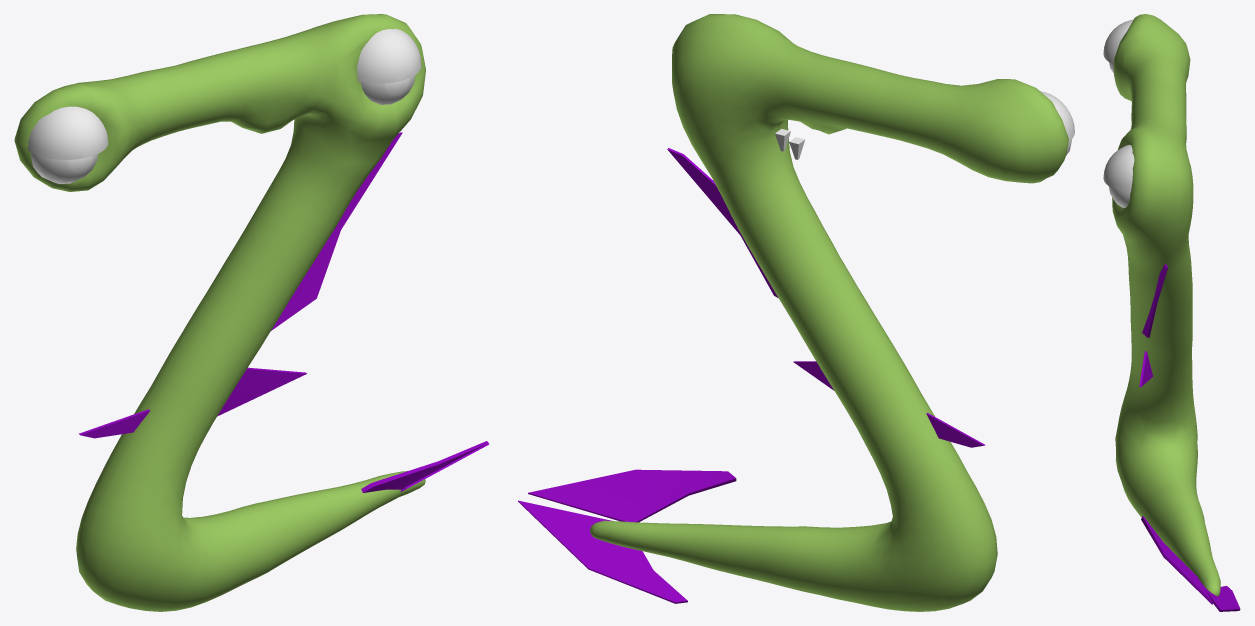
The picture shows the model from 3 angles, left to right: view 1: azimuth 30°, elevation 25°; view 2: azimuth 150°, elevation 25°; view 3: azimuth 270°, elevation 25°; orthographic projection. The views are drawn at different scales.
Visible parts, largest first — view 1: Sphere032, Plane005, Object017, Object018, Plane004, Sphere084, Sphere085; view 2: Sphere032, Plane004, Plane005; view 3: Sphere032, Plane004, Object018, Plane005, Object017, Sphere085.
Boxes of the visible parts, <box> form: Sphere032: <box>14,14,425,611</box>; Plane005: <box>79,132,402,438</box>; Object017: <box>27,106,108,159</box>; Object018: <box>357,28,421,83</box>; Plane004: <box>361,441,489,492</box>; Sphere084: <box>30,152,98,183</box>; Sphere085: <box>360,75,415,104</box>; Sphere032: <box>590,14,1068,611</box>; Plane004: <box>518,469,736,603</box>; Plane005: <box>667,148,985,447</box>; Sphere032: <box>1112,14,1220,596</box>; Plane004: <box>1141,516,1240,611</box>; Object018: <box>1103,144,1134,192</box>; Plane005: <box>1139,264,1167,386</box>; Object017: <box>1103,19,1133,64</box>; Sphere085: <box>1108,186,1130,207</box>.
Bounding box in the file's own units: 0.158 × 0.1649 × 0.0448.
